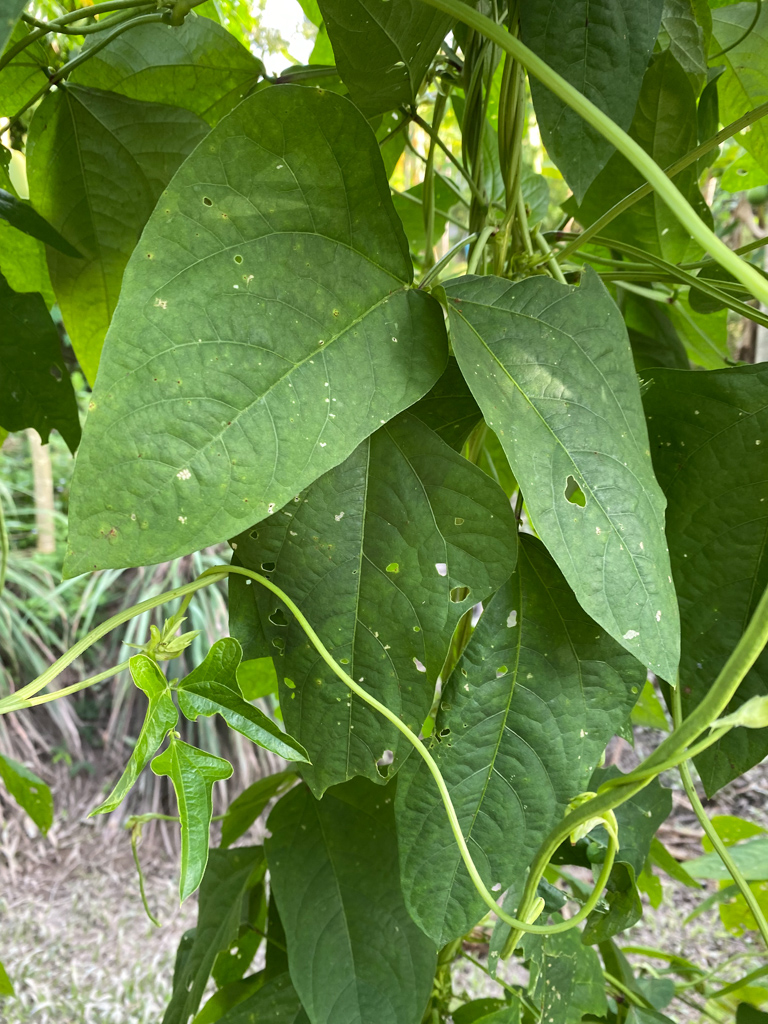Alternaria brassicicola: (91, 453, 206, 549), (225, 264, 266, 300), (141, 286, 173, 313), (326, 302, 345, 320), (218, 208, 235, 223), (142, 249, 157, 263)
